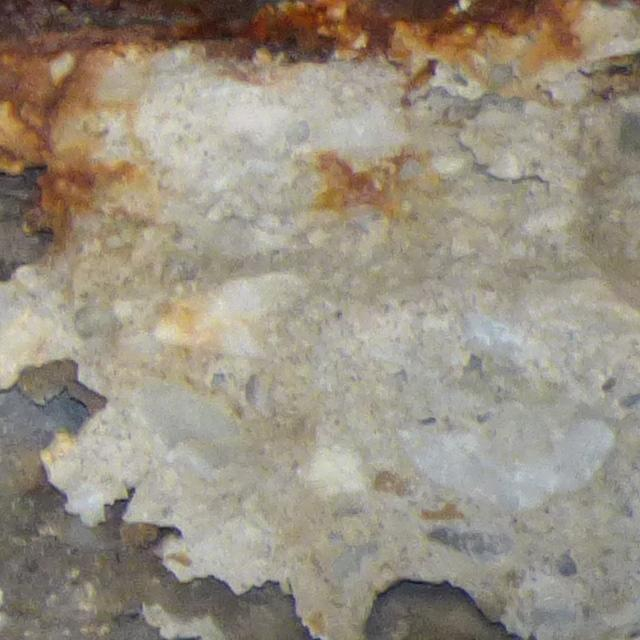Rust: (1, 1, 584, 62), (313, 148, 404, 205)
